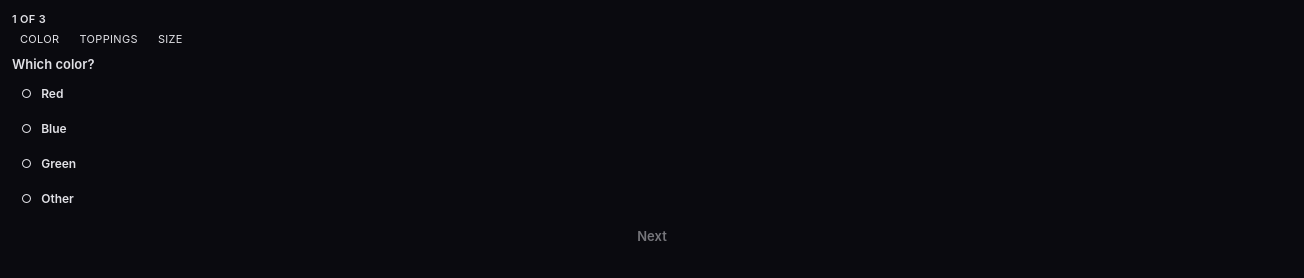
it: QuestionWizard steps › Next posts the staged answer for the step and moves to the returned step
Expected: the text "1 of 3" is shown, [12,12,46,26]
Expected: the button "Next" is disabled, [12,228,1292,244]
Click the radio button labelled "○ Blue": (27,128) [12,113,1292,144]
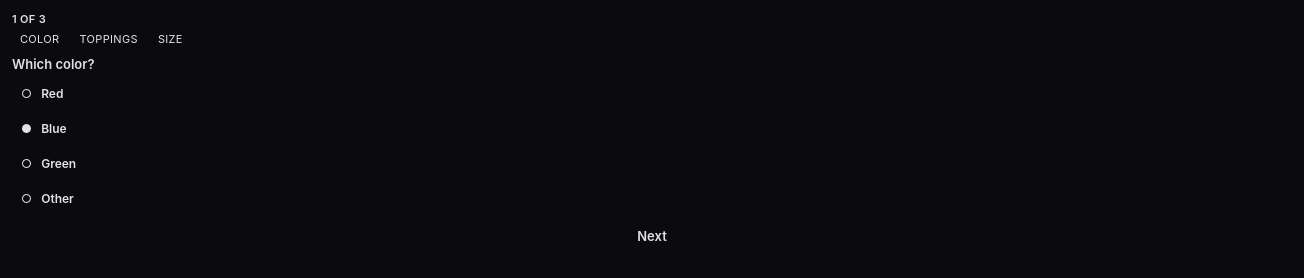
Expected: the button "Next" is enabled
Click the button "Next": (652,236) [12,228,1292,244]
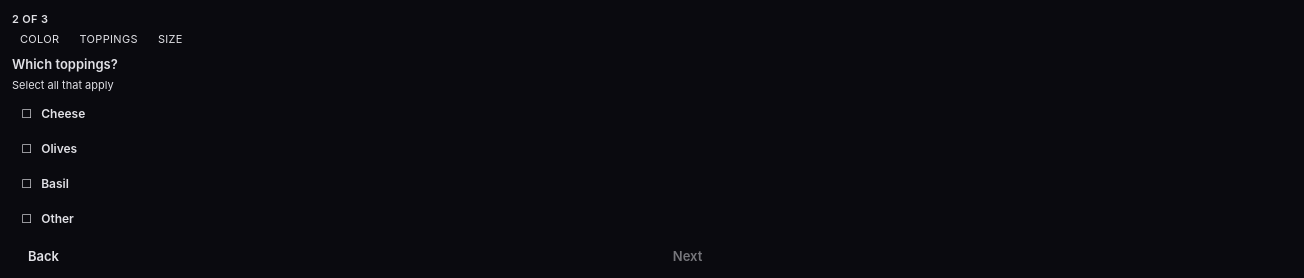
Expected: the text "2 of 3" is shown, [12,12,48,26]
Expected: the element named "Which toppings?" is shown, [12,98,1292,234]
